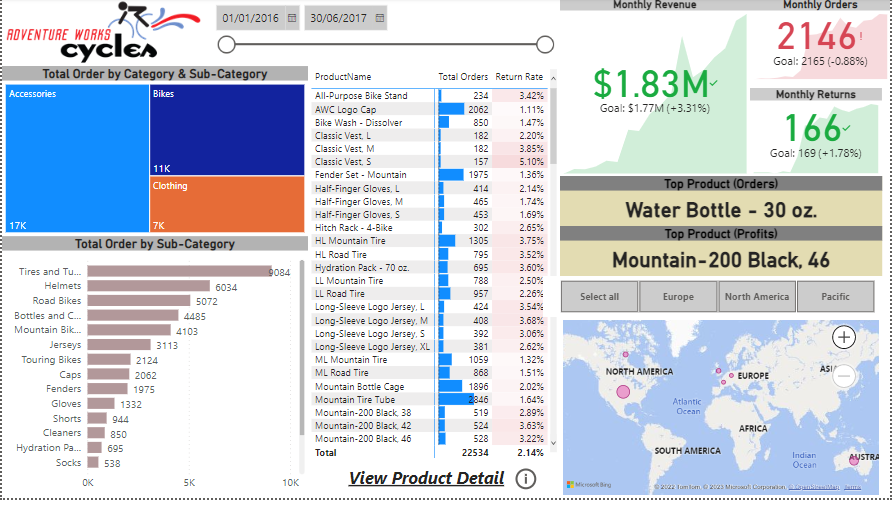

What the dashboard file says about the page in this screenshot:
{"tool":"powerbi","page":{"name":"Executive Summary","canvas":[1280,720],"ordinal":0},"visuals":[{"type":"image","box":[0,0,295.2,97.9],"z":0},{"type":"barChart","title":"Total Order by Sub-Category","fields":{"Y":["Key Measures.Total Orders"],"Category":["AW_Product_Subcategory_Lookup.SubcategoryName"]},"box":[0,342.7,440.6,375.8],"z":1000},{"type":"treemap","title":"Total Order by Category & Sub-Category","fields":{"Group":["AW_Product_Category_Lookup.CategoryName","AW_Product_Subcategory_Lookup.SubcategoryName"],"Values":["Key Measures.Total Orders"]},"box":[0,97.9,440.6,244.8],"z":2000},{"type":"pivotTable","fields":{"Values":["Key Measures.Total Orders","Key Measures.Return Rate"],"Rows":["AW_Product_Category_Lookup.CategoryName","AW_Product_Subcategory_Lookup.SubcategoryName","AW_Product_Lookup.ProductName"]},"box":[440.6,97.9,362.9,570.2],"z":3000},{"type":"slicer","fields":{"Values":["AW_Calendar_Lookup.Date"]},"box":[295.2,0,508.3,97.9],"z":4000},{"type":"kpi","title":"Monthly Revenue","fields":{"TrendLine":["AW_Calendar_Lookup.Start of Month"],"Indicator":["Key Measures.Total Revenue"],"Goal":["Key Measures.Prev Month Revenues"]},"box":[803.5,0,273.6,257.8],"z":5000},{"type":"kpi","title":"Monthly Orders","fields":{"TrendLine":["AW_Calendar_Lookup.Start of Month"],"Indicator":["Key Measures.Total Orders"],"Goal":["Key Measures.Prev Month Orders"]},"box":[1077.1,0,203,122.4],"z":6000},{"type":"kpi","title":"Monthly Returns","fields":{"TrendLine":["AW_Calendar_Lookup.Start of Month"],"Indicator":["Key Measures.Total Returns"],"Goal":["Key Measures.Prev Month Returns"]},"box":[1077.1,129.6,190.1,128.2],"z":7000},{"type":"card","title":"Top Product (Orders)","fields":{"Values":["Min(AW_Product_Lookup.ProductName)"]},"box":[803.5,256.3,463.7,73.4],"z":8000},{"type":"card","title":"Top Product (Profits)","fields":{"Values":["Min(AW_Product_Lookup.ProductName)"]},"box":[803.5,328.3,463.7,72],"z":9000},{"type":"map","fields":{"Category":["AW_Territories_Lookup.Country"],"Size":["Key Measures.Total Orders"]},"box":[803.5,459.4,463.7,260.6],"z":10000},{"type":"slicer","fields":{"Values":["AW_Territories_Lookup.Continent"]},"box":[779,400.3,501.1,59],"z":11000},{"type":"textbox","box":[493.9,668.2,250.6,50.4],"z":12000},{"type":"actionButton","box":[734.4,672.5,59,40.3],"z":13000}]}

Visuals, with their boxes in screenshot pixels (x1, y1, x2, y2), scaled from the page's 1280x720 canvas onto the 893x505 screenshot:
image: bbox=[0, 0, 206, 69]
"Total Order by Sub-Category" barChart: bbox=[0, 240, 307, 504]
"Total Order by Category & Sub-Category" treemap: bbox=[0, 69, 307, 240]
pivotTable - Key Measures.Total Orders x Key Measures.Return Rate: bbox=[307, 69, 561, 469]
slicer - AW_Calendar_Lookup.Date: bbox=[206, 0, 561, 69]
"Monthly Revenue" kpi: bbox=[561, 0, 751, 181]
"Monthly Orders" kpi: bbox=[751, 0, 892, 86]
"Monthly Returns" kpi: bbox=[751, 91, 884, 181]
"Top Product (Orders)" card: bbox=[561, 180, 884, 231]
"Top Product (Profits)" card: bbox=[561, 230, 884, 281]
map - AW_Territories_Lookup.Country x Key Measures.Total Orders: bbox=[561, 322, 884, 504]
slicer - AW_Territories_Lookup.Continent: bbox=[543, 281, 892, 322]
textbox: bbox=[345, 469, 519, 504]
actionButton: bbox=[512, 472, 554, 500]
